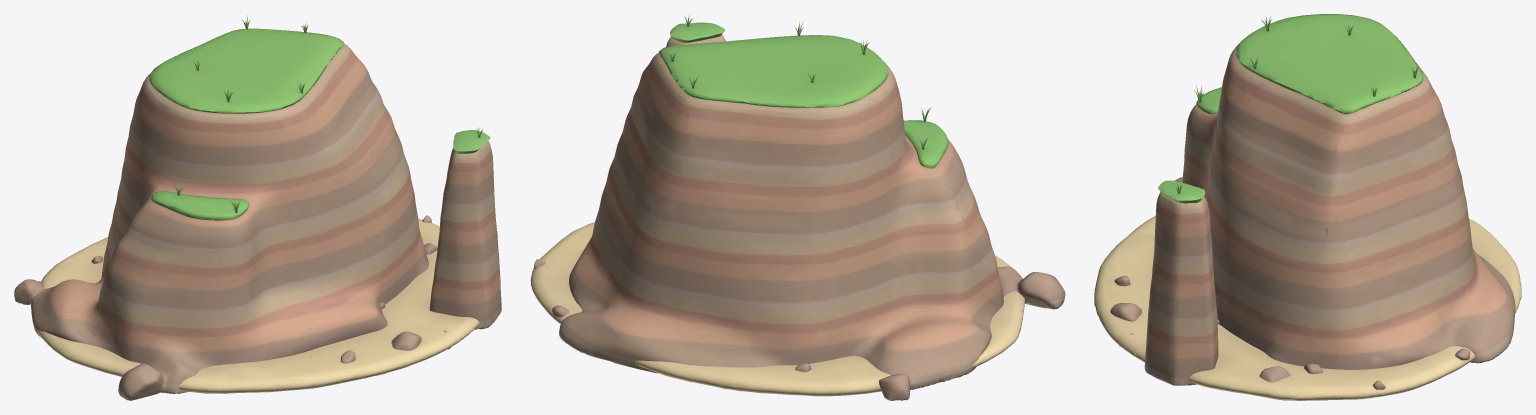
The model's file is mesa.glb.
The picture shows the model from 3 angles, left to right: view 1: azimuth 30°, elevation 25°; view 2: azimuth 150°, elevation 25°; view 3: azimuth 270°, elevation 25°; orthographic projection. The views are drawn at different scales.
Parts seen in each view (by area): view 1: mesa_body; view 2: mesa_body; view 3: mesa_body.
Part boxes in pixels (left/top/right/bottom): mesa_body: left=14, top=15, right=501, bottom=400; mesa_body: left=530, top=14, right=1065, bottom=400; mesa_body: left=1094, top=14, right=1521, bottom=400.
Size of the model in its own units: 9.98 by 5.59 by 8.54.
1 material, 1 textured.
